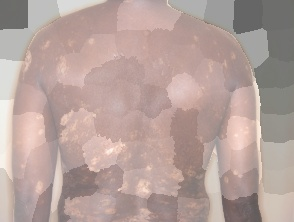vitiligo: (9, 0, 267, 222)
